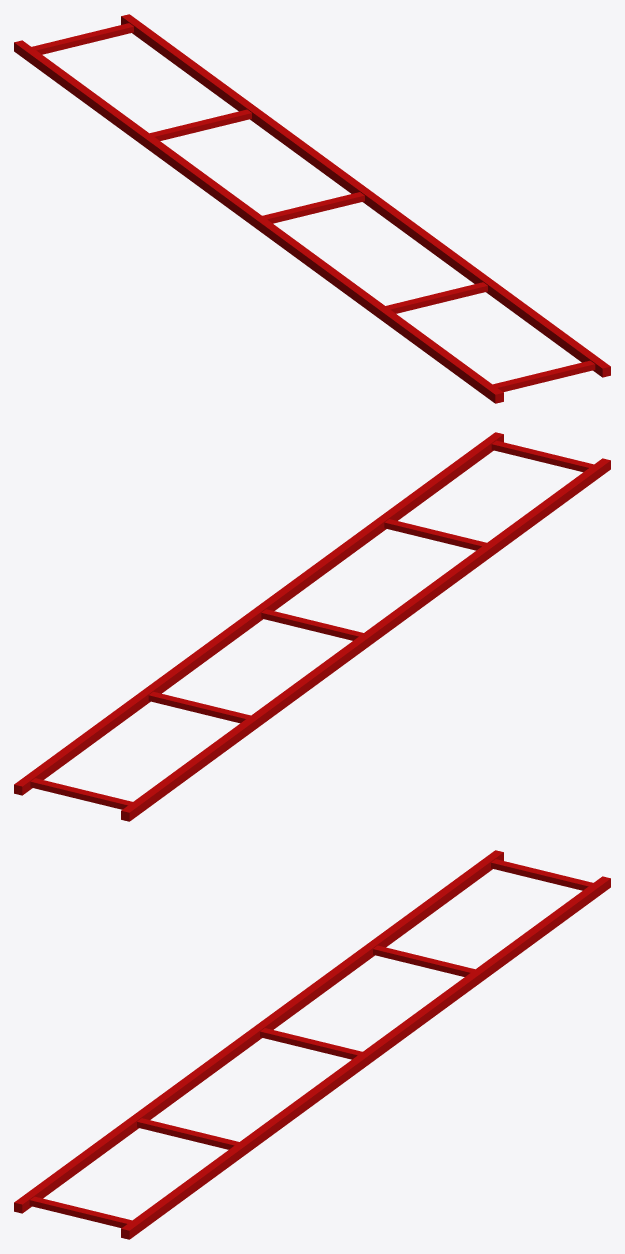
The model's file is Metal_Structure_01.fbx.
3 renders of one model, top to bottom at view 1: azimuth 30°, elevation 25°; view 2: azimuth 150°, elevation 25°; view 3: azimuth 330°, elevation 25°, orthographic.
Parts seen in each view (by area): view 1: Metal_Structure_01; view 2: Metal_Structure_01; view 3: Metal_Structure_01.
Part boxes in pixels (x1,y1,x2,y2): Metal_Structure_01: (14,14,610,403); Metal_Structure_01: (14,432,610,821); Metal_Structure_01: (14,850,610,1239).
Bounding box in the file's own units: 170 × 12.69 × 1223.
